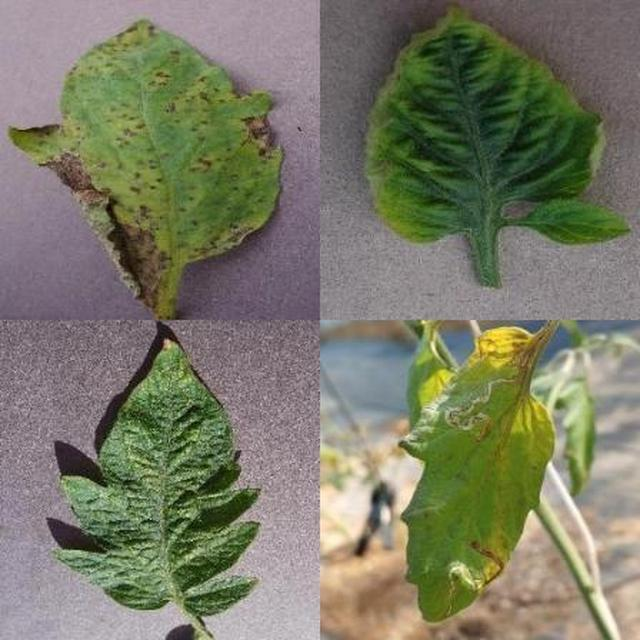Septoria Leaf: (209, 178, 640, 640)
